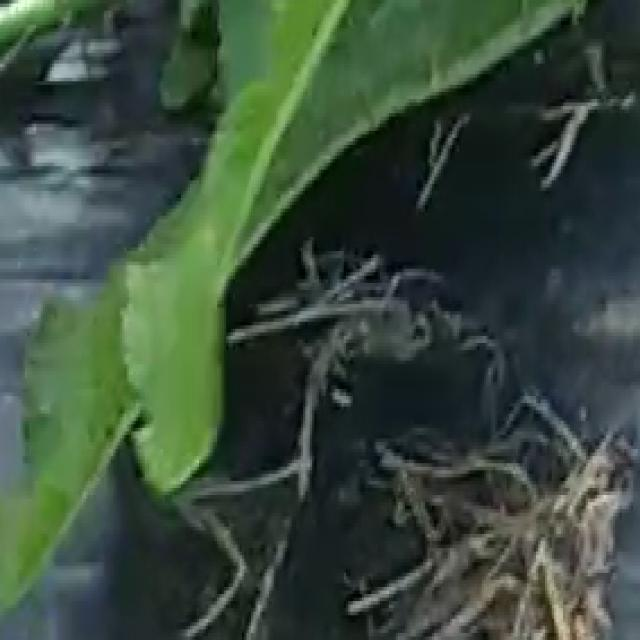organic waste: (0, 0, 563, 537)
